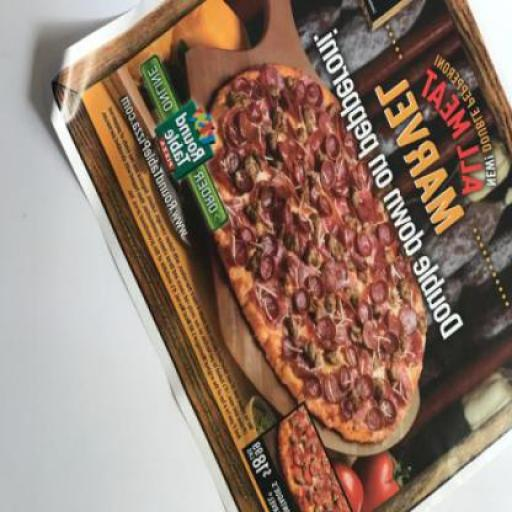paper: (49, 0, 512, 511)
